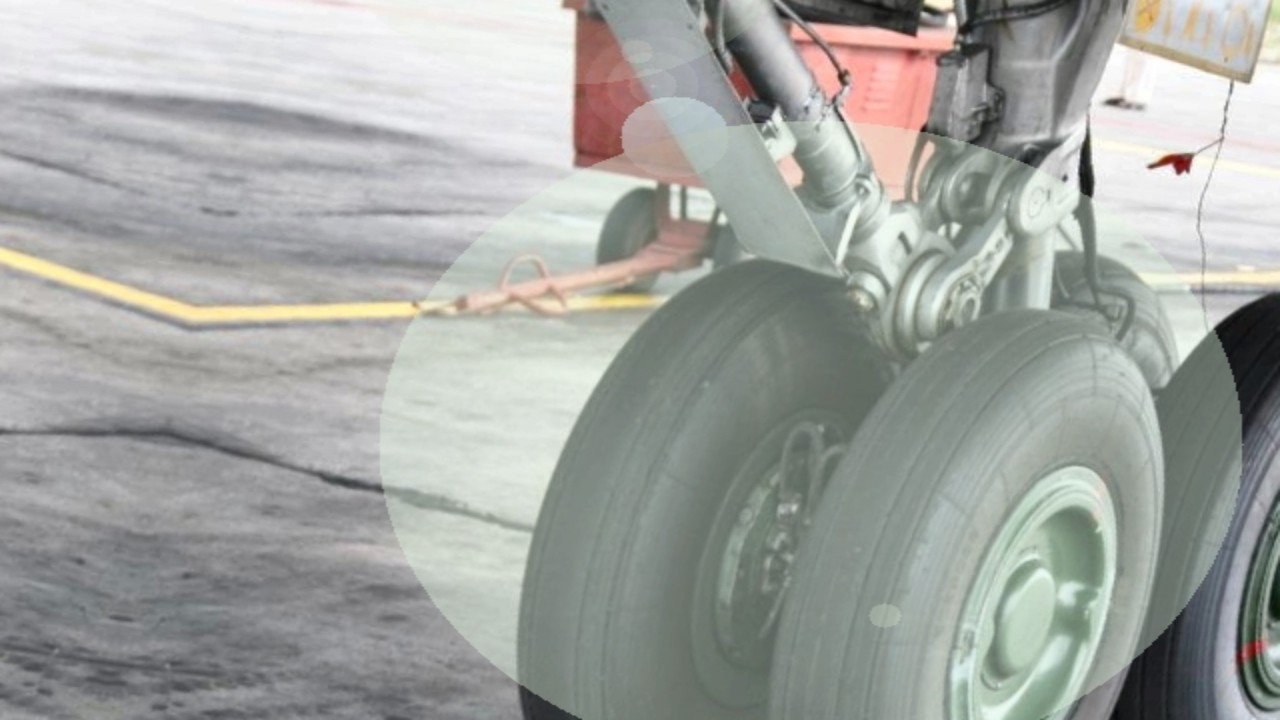wheel: (720, 283, 1222, 720), (470, 240, 911, 720), (1081, 272, 1280, 720), (1020, 247, 1202, 384)
